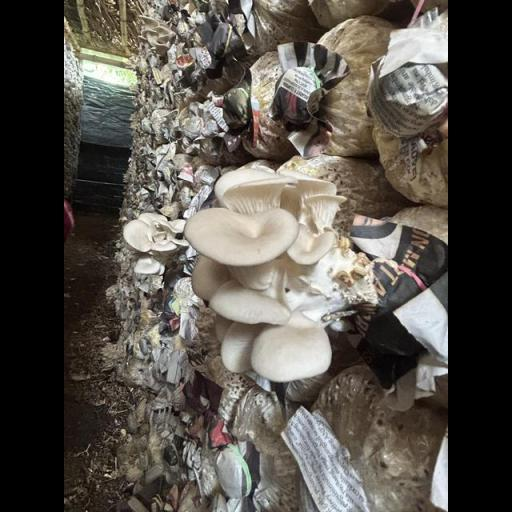White Oyster Mushroom: (183, 164, 356, 380), (124, 213, 188, 265)
